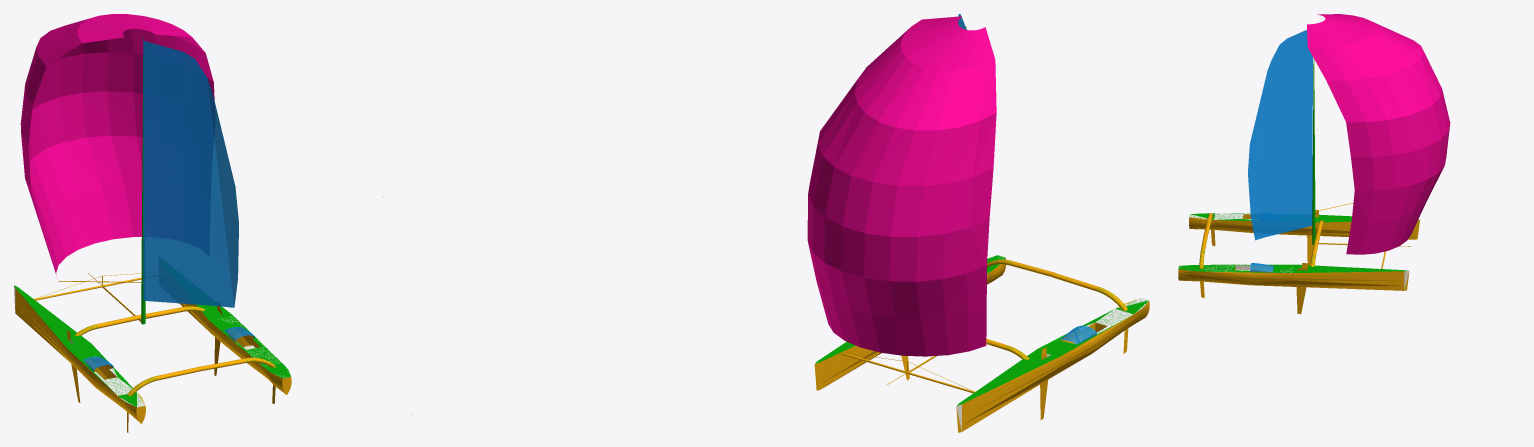
File: spi_babord_catamaran.dae
3 views of the same model, side by side, from view 1: azimuth 30°, elevation 25°; view 2: azimuth 150°, elevation 25°; view 3: azimuth 270°, elevation 25° (orthographic). The views are drawn at different scales.
Parts seen in each view (by area): view 1: SketchUp (×10); view 2: SketchUp (×5); view 3: SketchUp (×7).
Boxes of the visible parts, left/top/right/bottom form: SketchUp (×10): left=14, top=14, right=291, bottom=423; SketchUp (×5): left=807, top=16, right=1149, bottom=432; SketchUp (×7): left=1178, top=14, right=1450, bottom=290.
Size of the model in its own units: 188600 by 156303 by 137090.
Materials: 15 (6 with a texture image).
